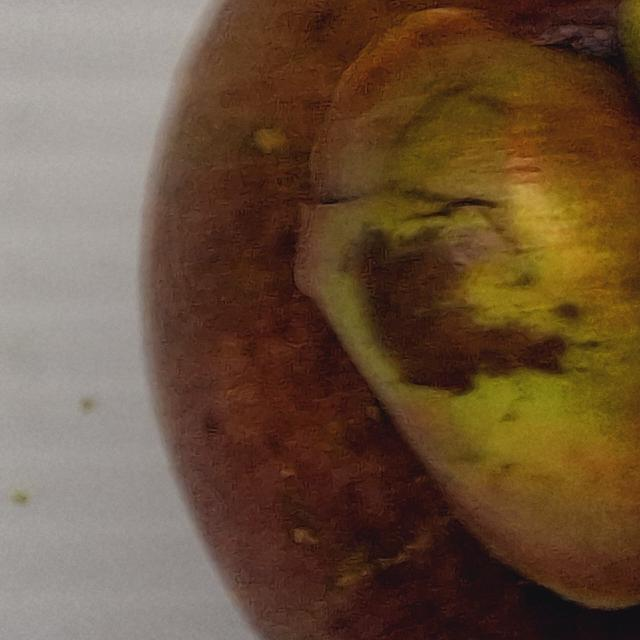mangosteen: (95, 0, 640, 640)
